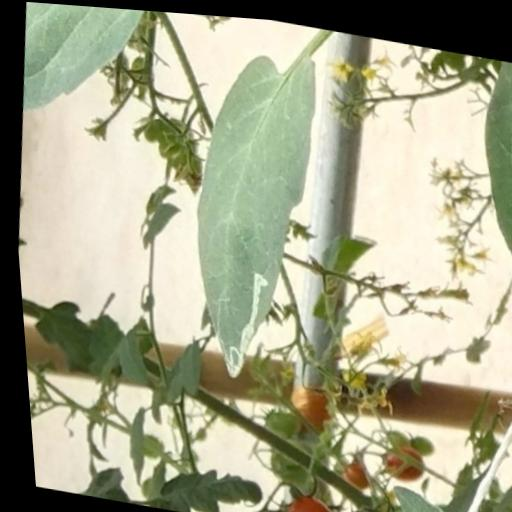Leaf_Miner: (161, 29, 340, 393)
